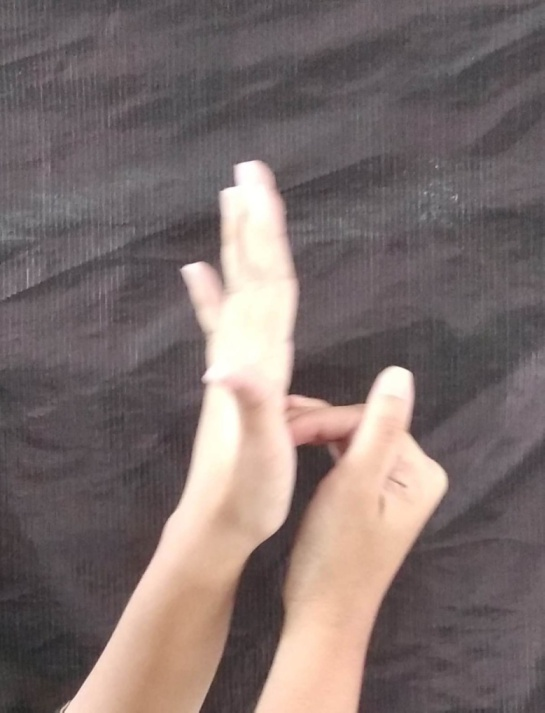ga: (168, 139, 448, 636)
